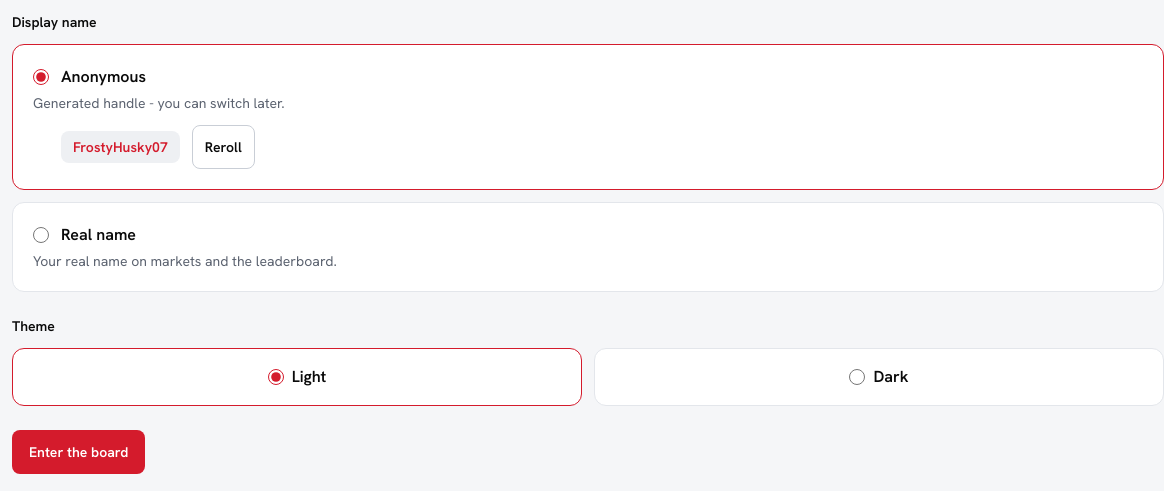
Test: OnboardingForm › rerolls the handle in place
The image size is (1164, 491).
Click the button "Reroll" at (223, 147), box [192,125,255,169]
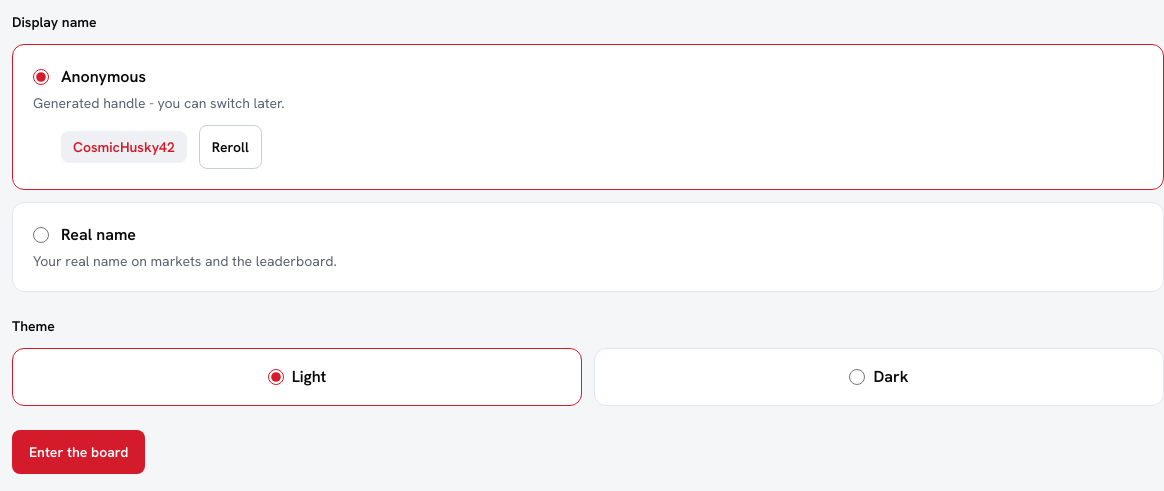
Now the text "CosmicHusky42" is shown, box [61,131,187,163]
Now the text "FrostyHusky07" is gone
